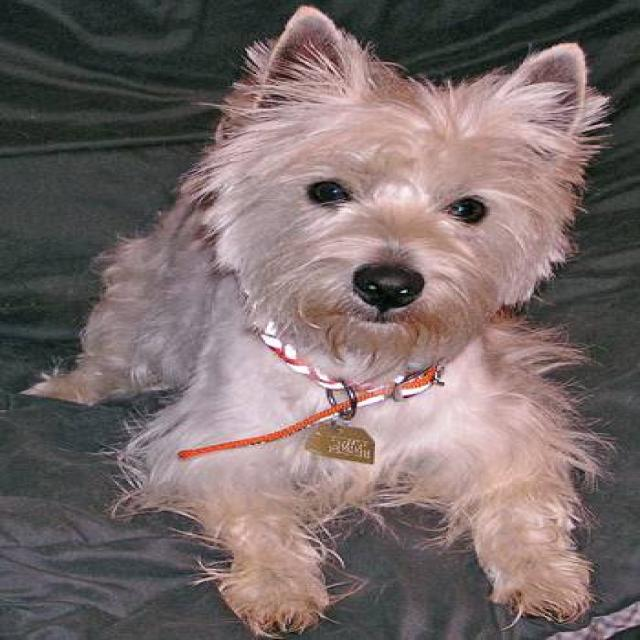dog: (18, 4, 618, 637)
